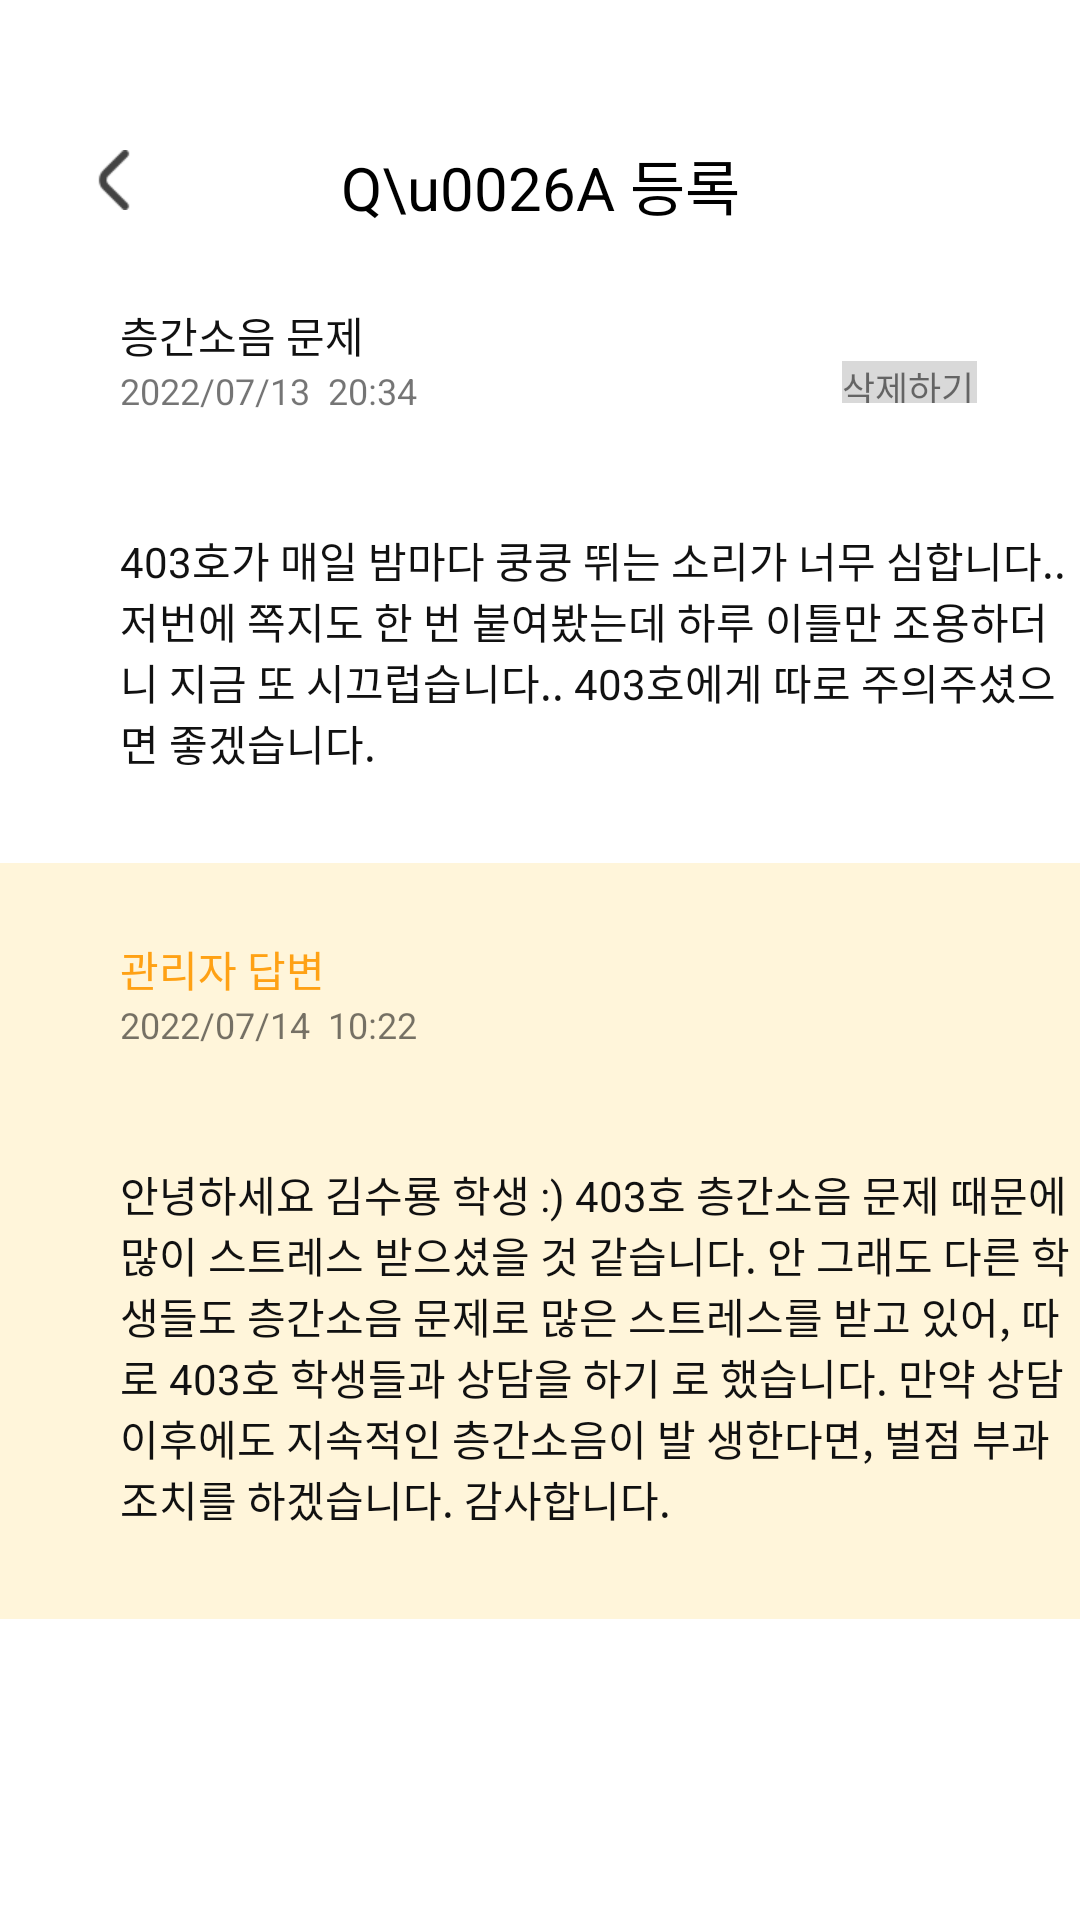

Named icons in this screenshot (1080 × 1920) and their bounding boxes, (x1, y1, x2, y2):
back: (98, 150, 130, 210)
